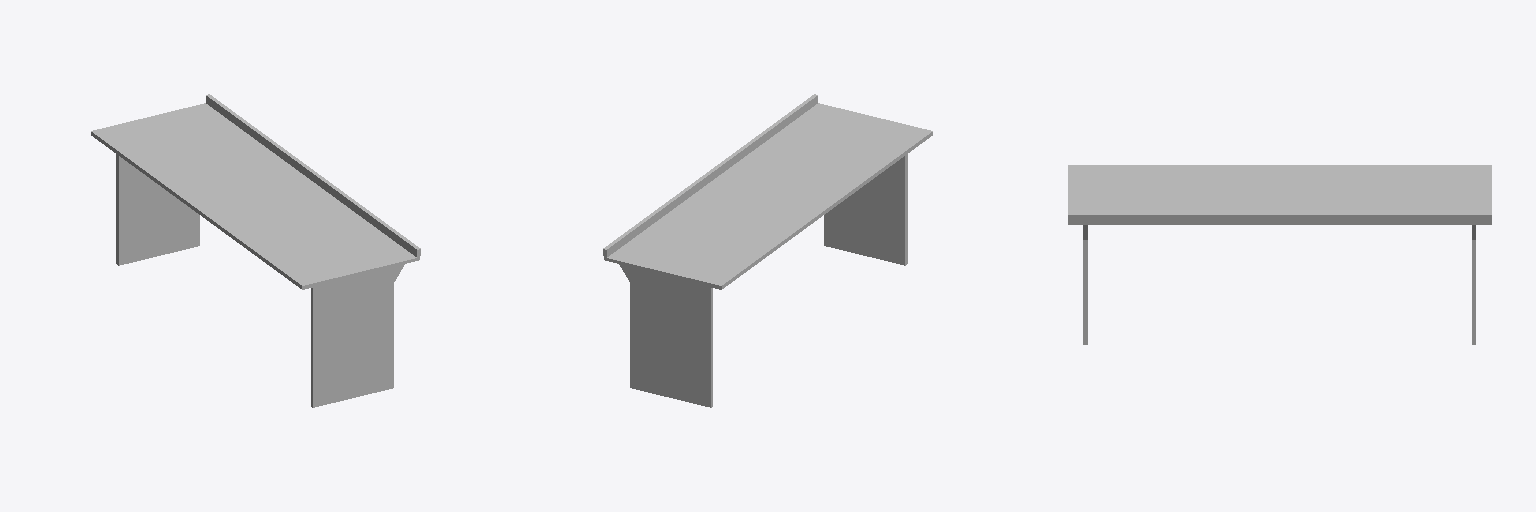
The model's file is sorting_desk.obj.
The picture shows the model from 3 angles: view 1: azimuth 30°, elevation 25°; view 2: azimuth 150°, elevation 25°; view 3: azimuth 270°, elevation 25°; orthographic projection.
Parts seen in each view (by area): view 1: SortingDesk; view 2: SortingDesk; view 3: SortingDesk.
Part boxes in pixels (x1,y1,x2,y2): SortingDesk: (91, 94, 420, 407); SortingDesk: (603, 94, 932, 407); SortingDesk: (1068, 165, 1491, 344).
Bounding box in the file's own units: 0.3069 × 0.3458 × 0.9478.